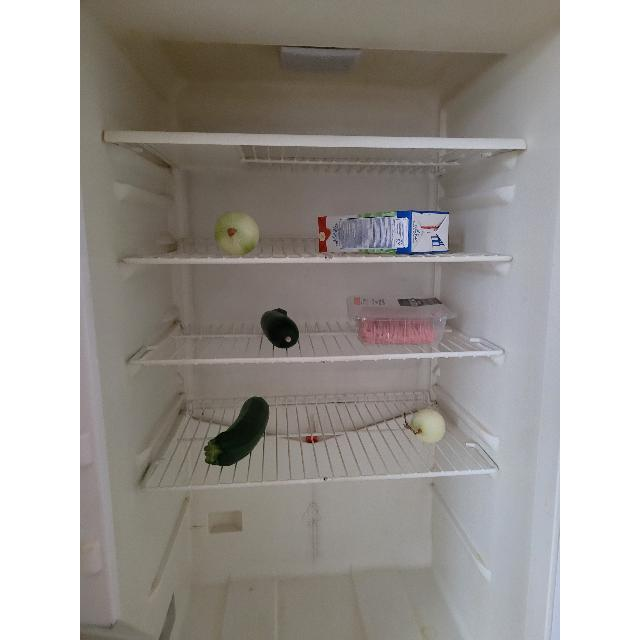meat: (356, 319, 436, 345)
milk: (316, 210, 448, 256)
onion: (214, 210, 260, 256), (409, 408, 447, 444)
zucchini: (204, 396, 270, 466), (261, 308, 299, 349)
